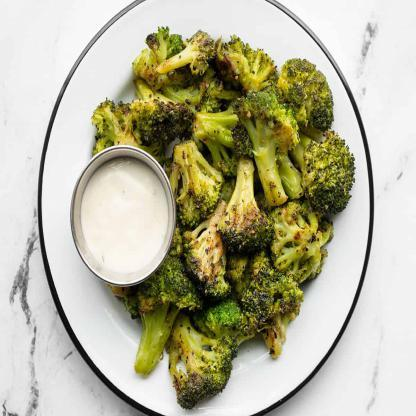broccoli: (92, 26, 354, 408)
